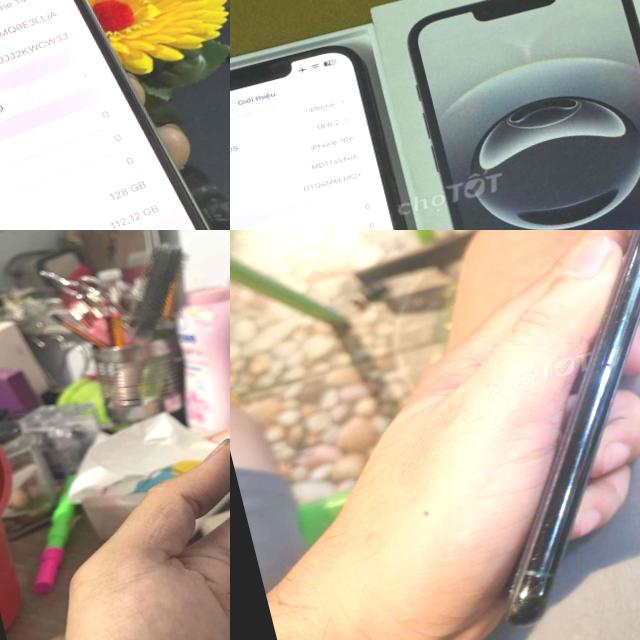gen_11: (395, 230, 640, 636)
gen_12_13: (163, 272, 230, 640)
gen_14: (0, 0, 230, 230)
gen_16: (230, 45, 406, 230)
